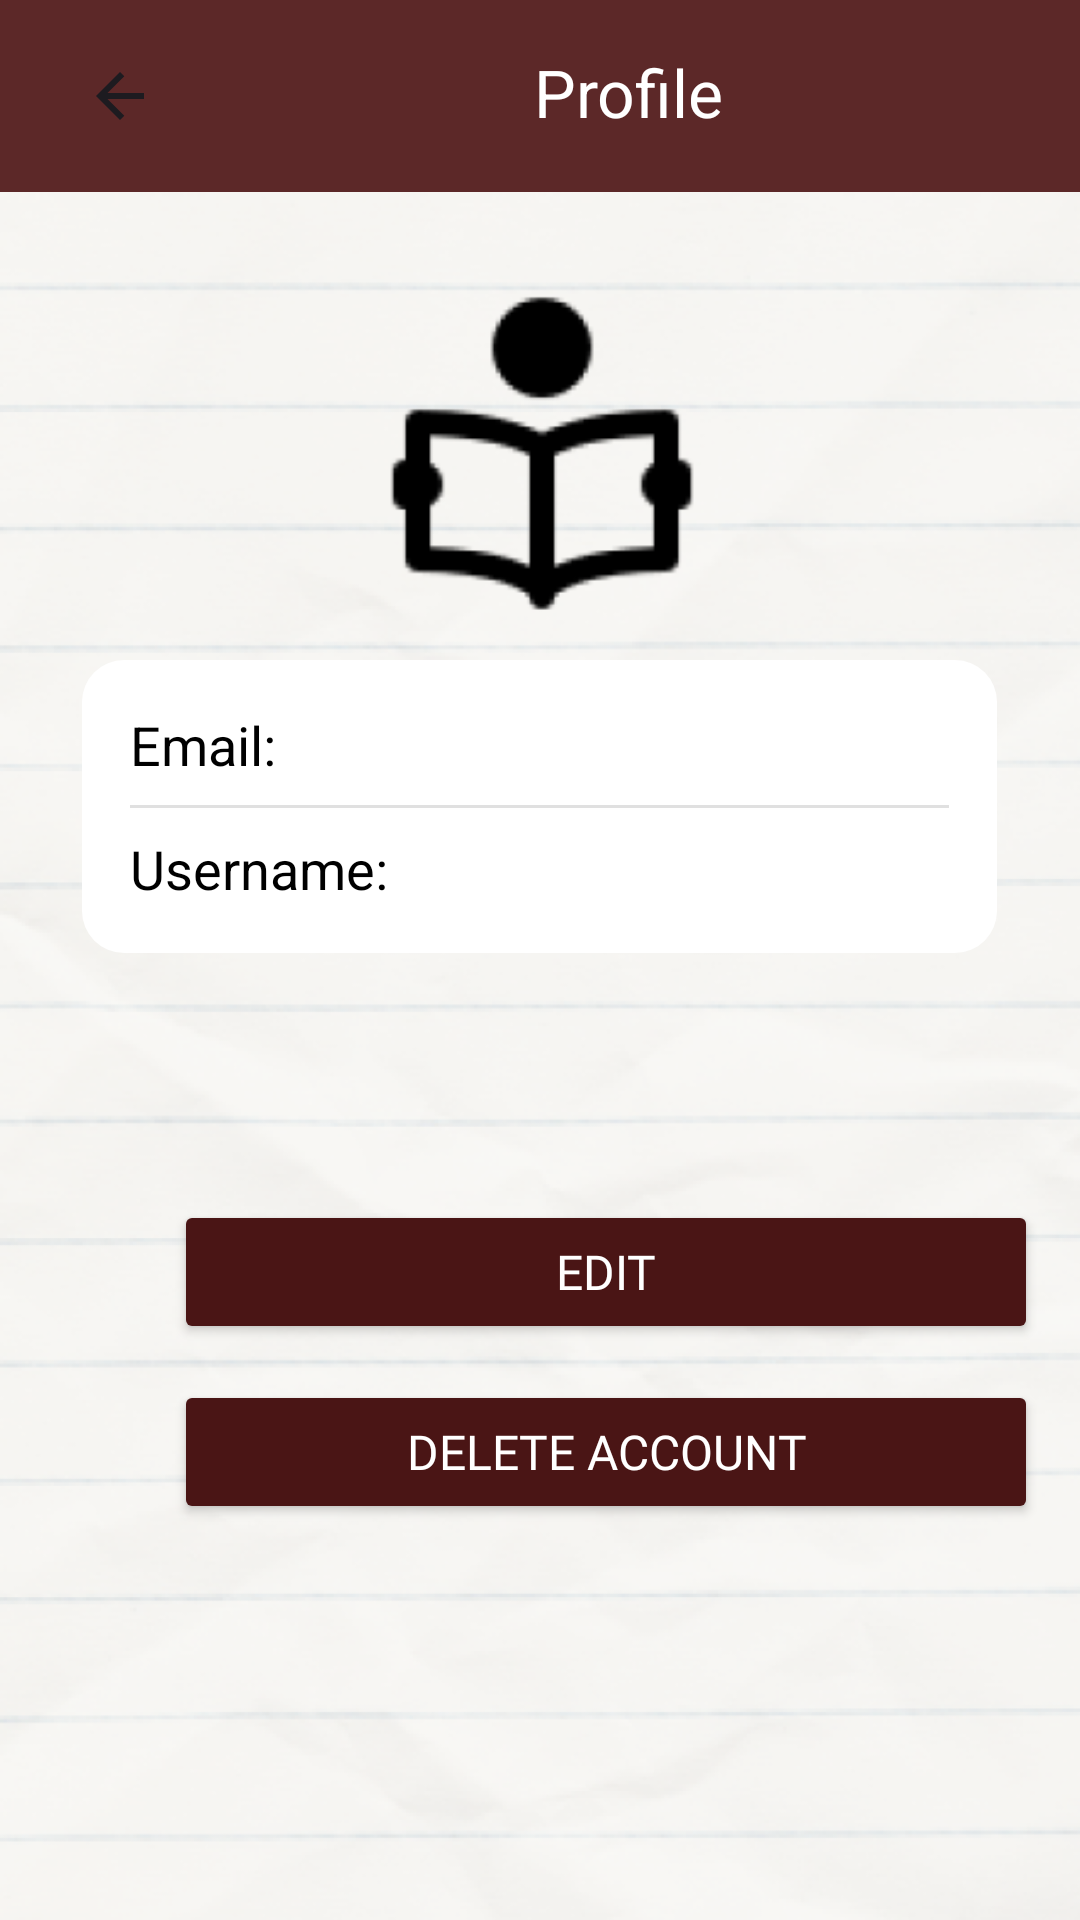

Icon click points for this 1080px×1920px phone screenshot, format point (x, y):
arrow back: point (120, 96)
reading: point (540, 453)
